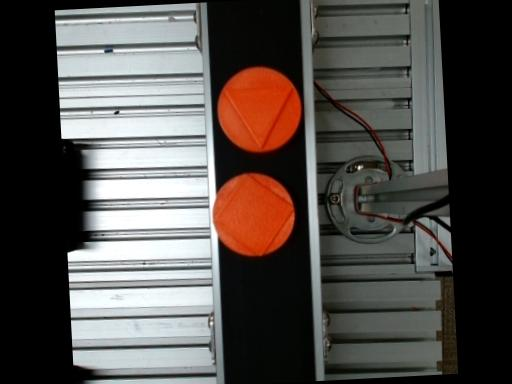Not_Square: (220, 87, 295, 152)
Orange_Waper: (217, 66, 301, 151), (213, 172, 294, 254)
Square: (212, 173, 295, 257)
